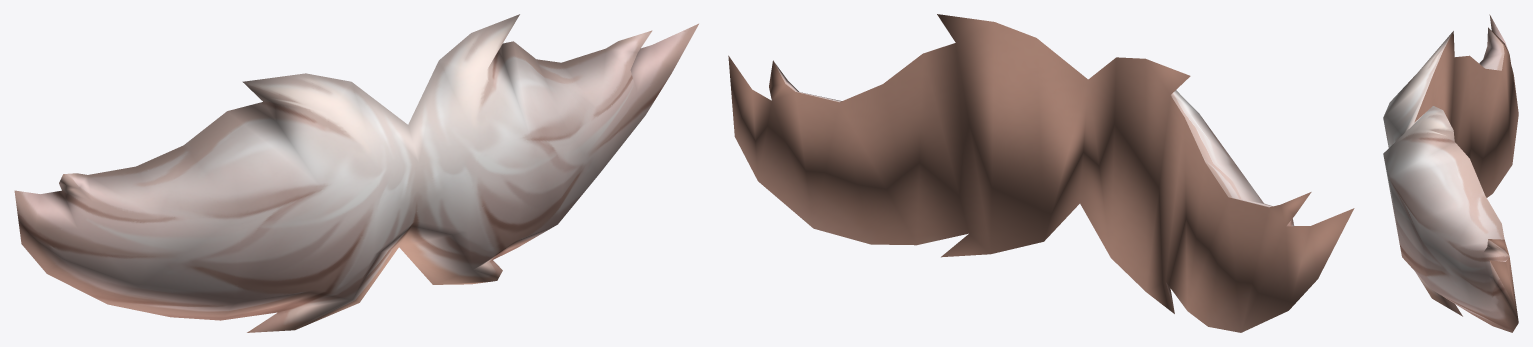
Rendered from Headwear_2600086.fbx.
3 views of the same model, side by side, from view 1: azimuth 30°, elevation 25°; view 2: azimuth 150°, elevation 25°; view 3: azimuth 270°, elevation 25° (orthographic). The views are drawn at different scales.
Parts seen in each view (by area): view 1: Headwear_2600086; view 2: Headwear_2600086; view 3: Headwear_2600086.
Boxes of the visible parts, x1=… form: Headwear_2600086: x1=14, y1=14, x2=698, y2=332; Headwear_2600086: x1=728, y1=14, x2=1354, y2=332; Headwear_2600086: x1=1383, y1=14, x2=1518, y2=332.
Bounding box in the file's own units: 24.46 × 8.82 × 5.7.
1 material, 1 textured.
